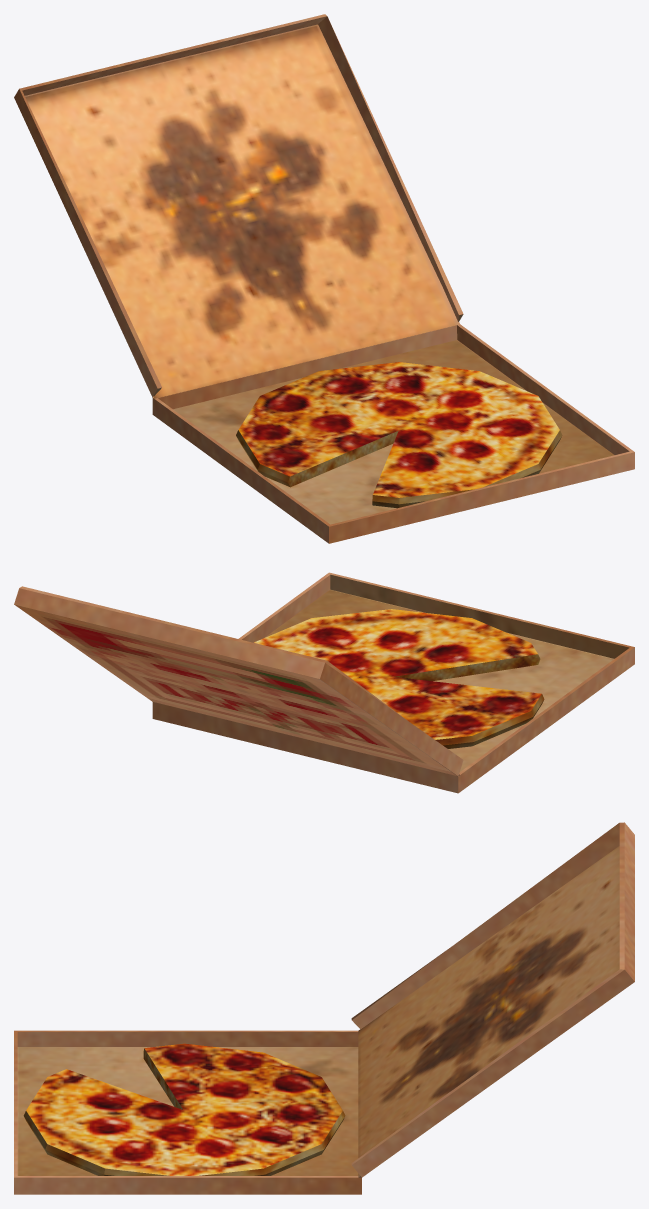
The model's file is pizza_one_slice_gone.glb.
3 renders of one model, top to bottom at view 1: azimuth 30°, elevation 25°; view 2: azimuth 150°, elevation 25°; view 3: azimuth 270°, elevation 25°, orthographic.
Visible parts, largest first — view 1: pizza one slice gone; view 2: pizza one slice gone; view 3: pizza one slice gone.
Part boxes in pixels (x1=…): pizza one slice gone: x1=14, y1=14, x2=634, y2=543; pizza one slice gone: x1=14, y1=572, x2=634, y2=793; pizza one slice gone: x1=14, y1=822, x2=634, y2=1194.
Size of the model in its own units: 0.5276 by 0.3762 by 0.9413.
2 materials, 2 textured.
